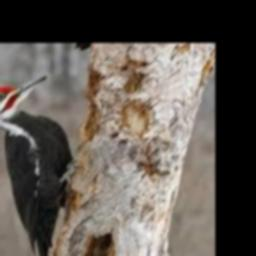Woodpecker: (0, 75, 74, 256)
